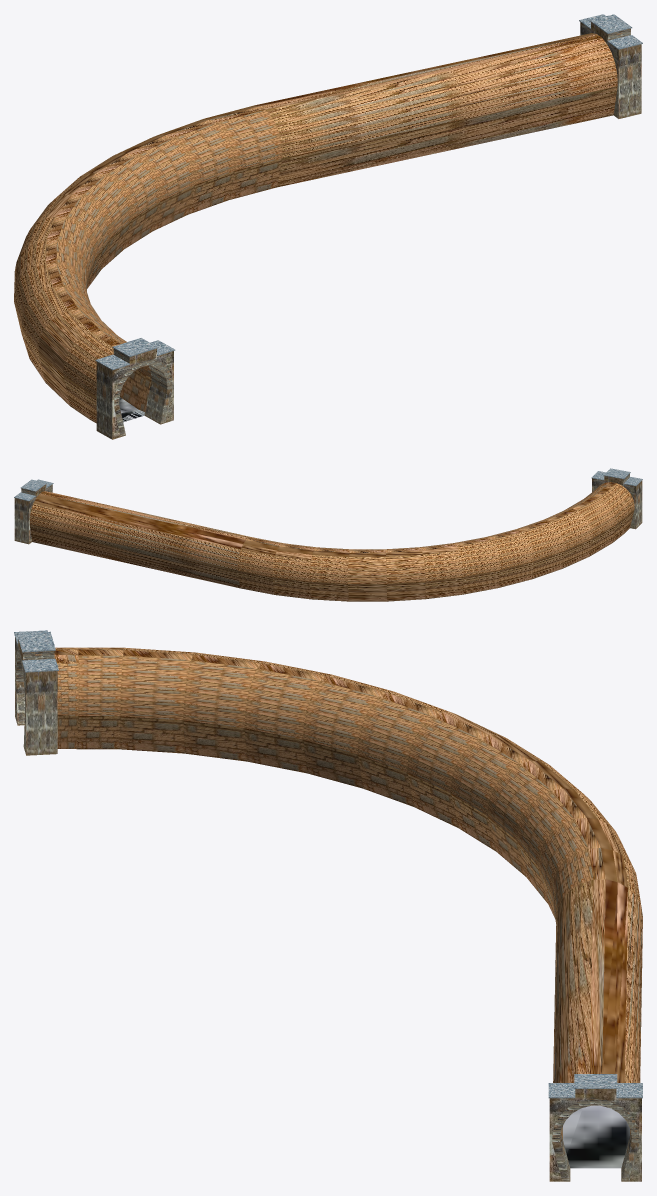
Rendered from GMLID_BUI289877_1911_4122.gltf.
The picture shows the model from 3 angles, top to bottom: view 1: azimuth 30°, elevation 25°; view 2: azimuth 150°, elevation 25°; view 3: azimuth 270°, elevation 25°; orthographic projection. The views are drawn at different scales.
Visible parts, largest first — view 1: Z_UP; view 2: Z_UP; view 3: Z_UP.
Boxes of the visible parts, left/top/right/bottom form: Z_UP: left=14, top=14, right=642, bottom=439; Z_UP: left=14, top=468, right=642, bottom=601; Z_UP: left=14, top=630, right=642, bottom=1181.
Bounding box in the file's own units: 122 × 15.38 × 73.66.
4 materials, 4 textured.
